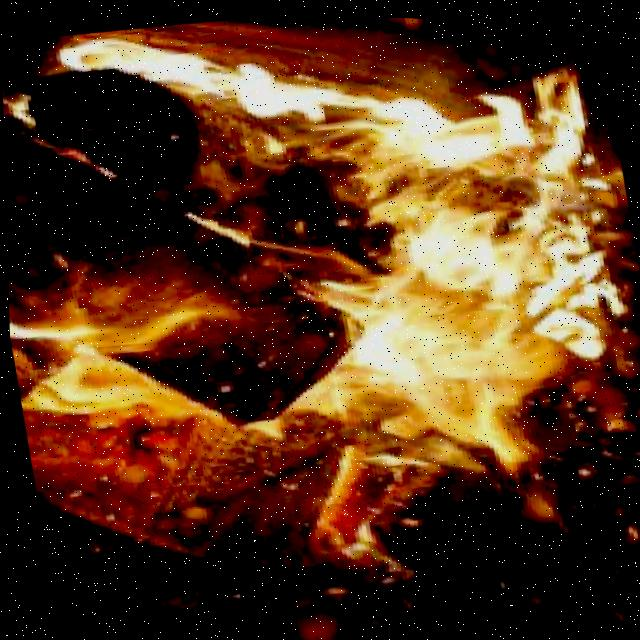Fire: (0, 0, 640, 617)
